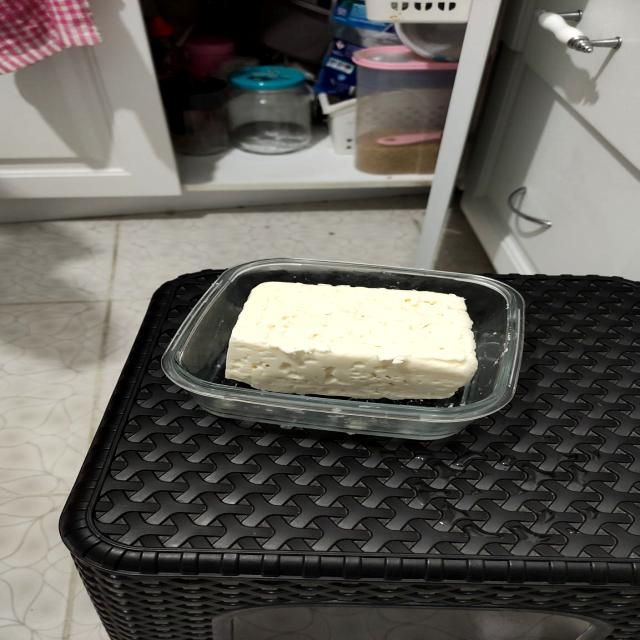cheese: (170, 260, 528, 432)
